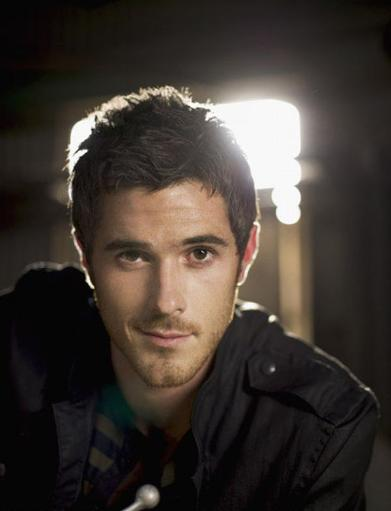left_eye: (183, 247, 223, 269)
left_lip_corner: (188, 328, 203, 348)
right_eye: (114, 251, 152, 270)
right_lip_corner: (134, 324, 147, 344)
